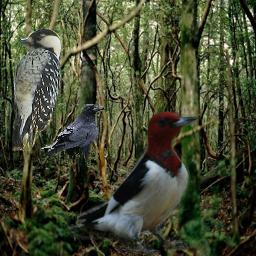Crow: (40, 104, 105, 167)
Woodpecker: (69, 111, 202, 255), (12, 28, 62, 151)
